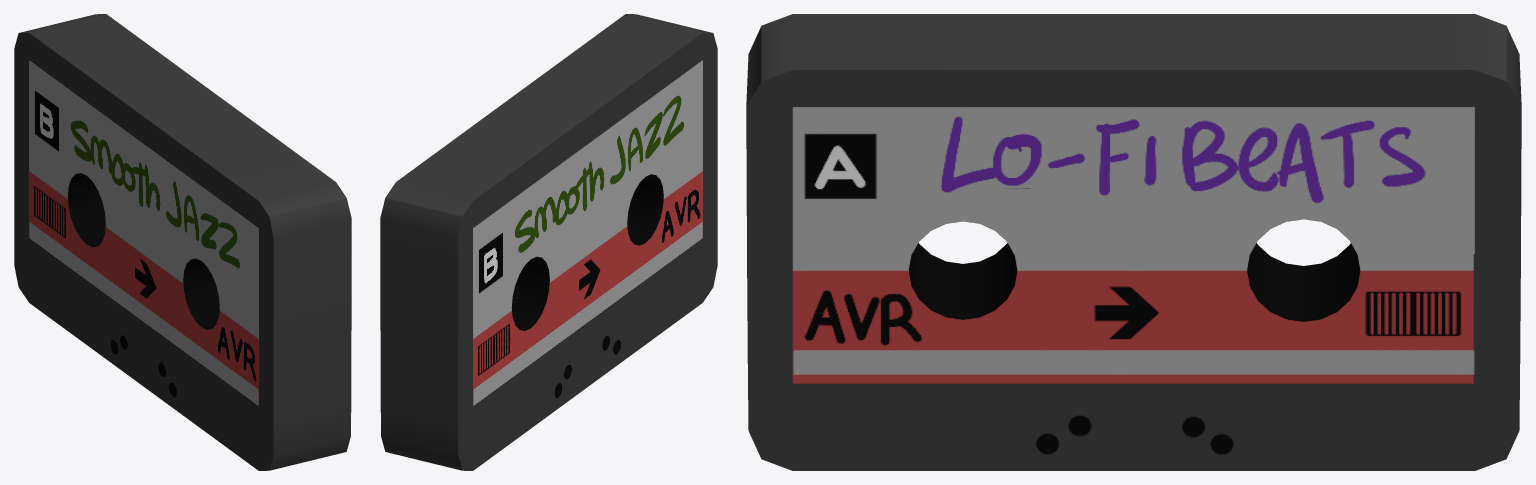
File: sm_cassette.fbx
The picture shows the model from 3 angles, left to right: view 1: azimuth 30°, elevation 25°; view 2: azimuth 150°, elevation 25°; view 3: azimuth 270°, elevation 25°; orthographic projection. The views are drawn at different scales.
Visible parts, largest first — view 1: shrubbery:shrubbery:pCube6; view 2: shrubbery:shrubbery:pCube6; view 3: shrubbery:shrubbery:pCube6.
Part boxes in pixels (x1,y1,x2,y2): shrubbery:shrubbery:pCube6: (14,14,351,470); shrubbery:shrubbery:pCube6: (380,14,717,470); shrubbery:shrubbery:pCube6: (746,14,1521,470).
Bounding box in the file's own units: 0.1719 × 0.5739 × 1.01.
Materials: 1 (1 with a texture image).
